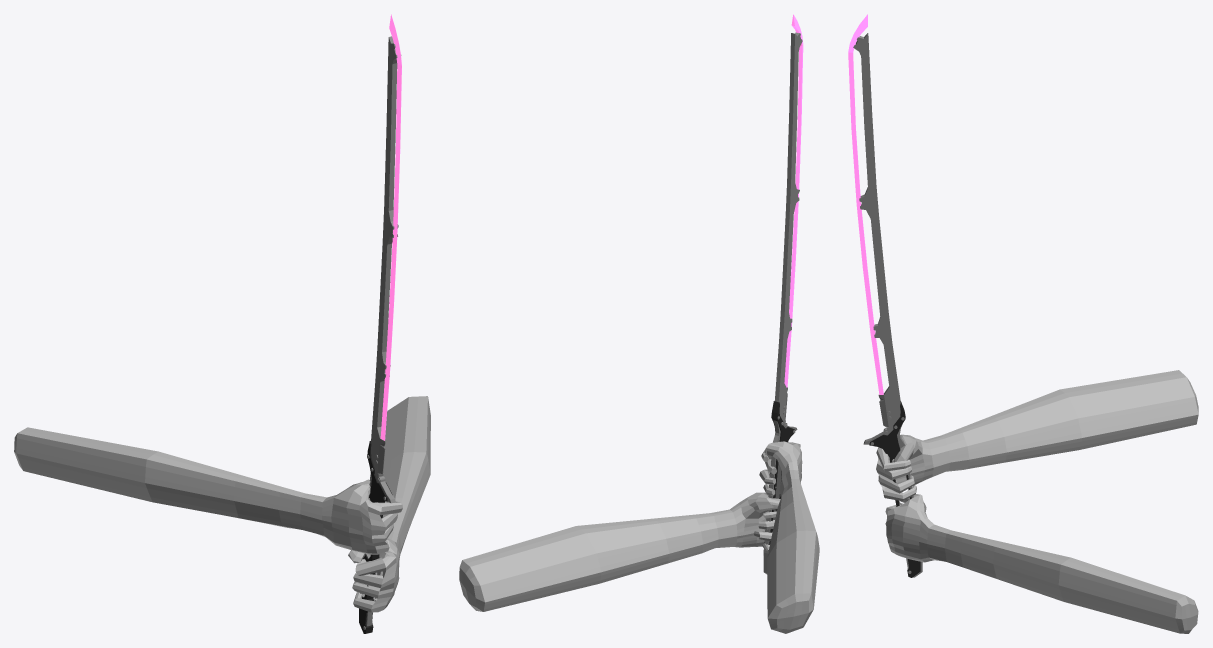
3 renders of one model, left to right at view 1: azimuth 30°, elevation 25°; view 2: azimuth 150°, elevation 25°; view 3: azimuth 270°, elevation 25°, orthographic. The views are drawn at different scales.
Visible parts, largest first — view 1: Right Hand Model.001; view 2: Right Hand Model.001; view 3: Right Hand Model.001.
Boxes of the visible parts, x1,y1,x2,y2 form: Right Hand Model.001: (14,14,430,633); Right Hand Model.001: (459,14,819,633); Right Hand Model.001: (848,14,1198,633).
Size of the model in its own units: 2.5 by 3.68 by 2.08.
